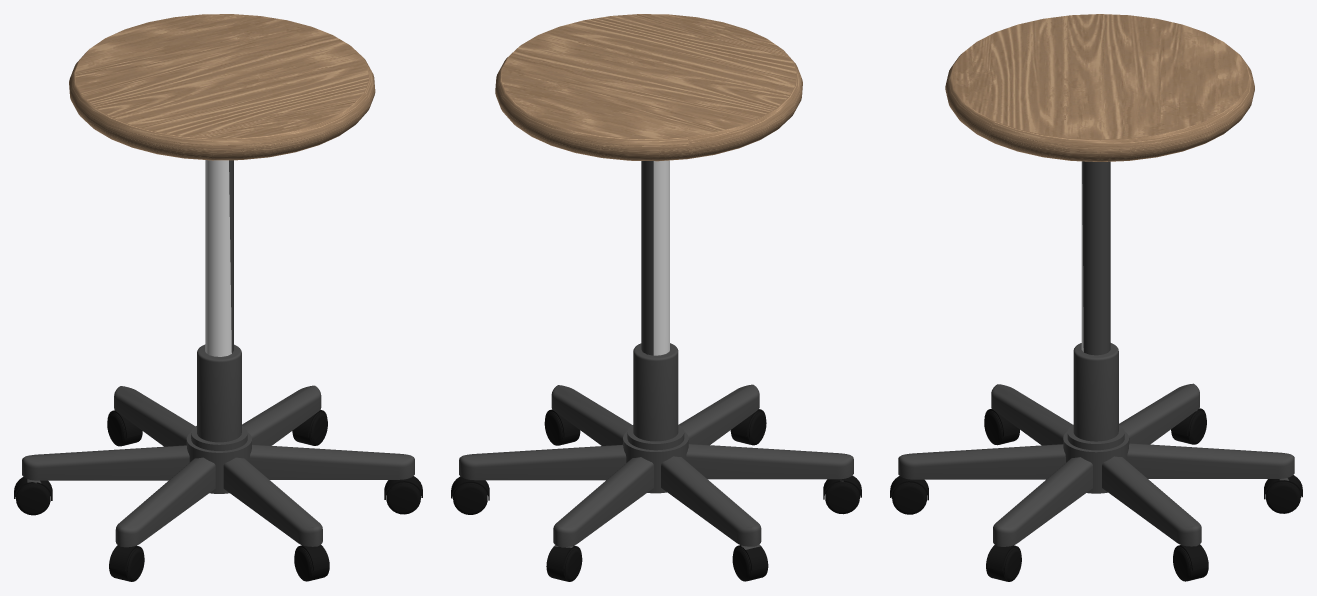
The model's file is Chair_Wood.glb.
3 views of the same model, side by side, from view 1: azimuth 30°, elevation 25°; view 2: azimuth 150°, elevation 25°; view 3: azimuth 270°, elevation 25° (orthographic).
Visible parts, largest first — view 1: Chair, Cylinder; view 2: Chair, Cylinder; view 3: Chair, Cylinder.
Part boxes in pixels (x1,y1,x2,y2): Chair: [14, 160, 422, 581]; Cylinder: [69, 14, 375, 160]; Chair: [451, 160, 861, 581]; Cylinder: [495, 14, 802, 161]; Chair: [890, 161, 1302, 581]; Cylinder: [945, 14, 1254, 161].
Bounding box in the file's own units: 0.4343 × 0.5683 × 0.4874.
Materials: 4 (1 with a texture image).
